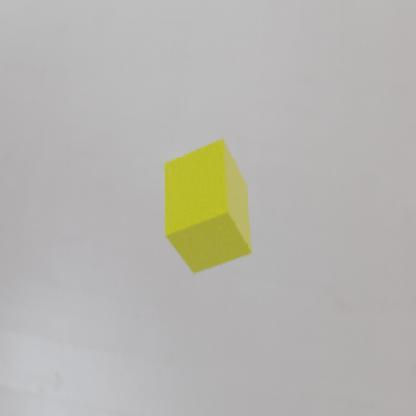yellow_cube: (162, 137, 252, 274)
